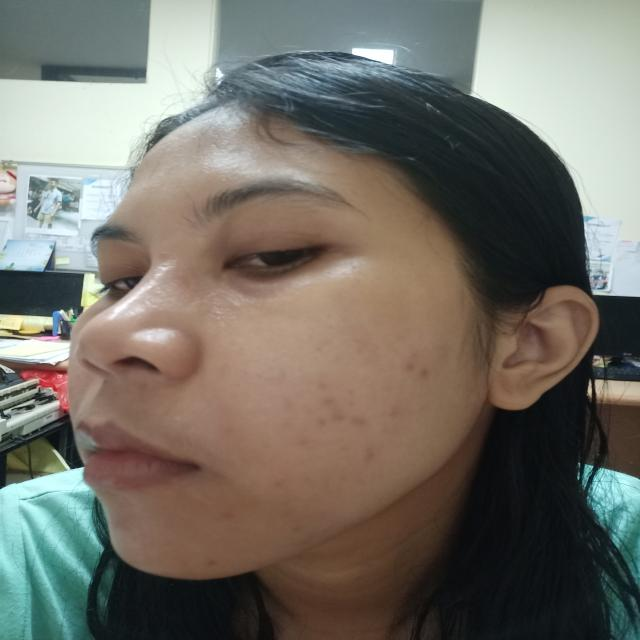Acne: (325, 401, 353, 427), (351, 449, 386, 468), (384, 406, 412, 424), (277, 401, 306, 418), (216, 510, 244, 524), (270, 471, 292, 488), (310, 415, 332, 431), (348, 412, 377, 424), (419, 367, 432, 390), (294, 432, 313, 447), (317, 389, 337, 403), (287, 522, 309, 533), (405, 358, 419, 372), (203, 556, 220, 566)
Eyebags: (222, 270, 324, 299)
